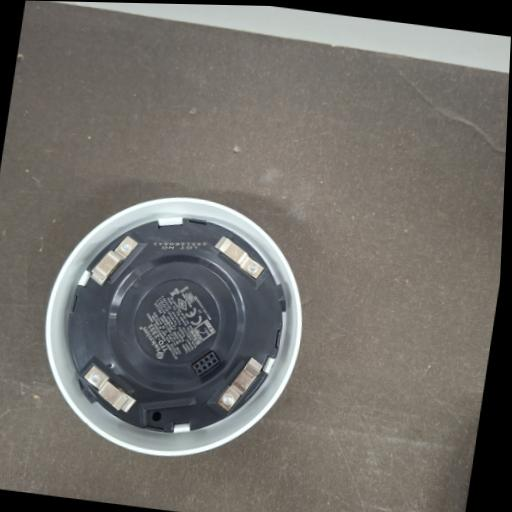yayli: (214, 352, 268, 418), (86, 231, 141, 293), (78, 364, 140, 416), (211, 235, 268, 281)
